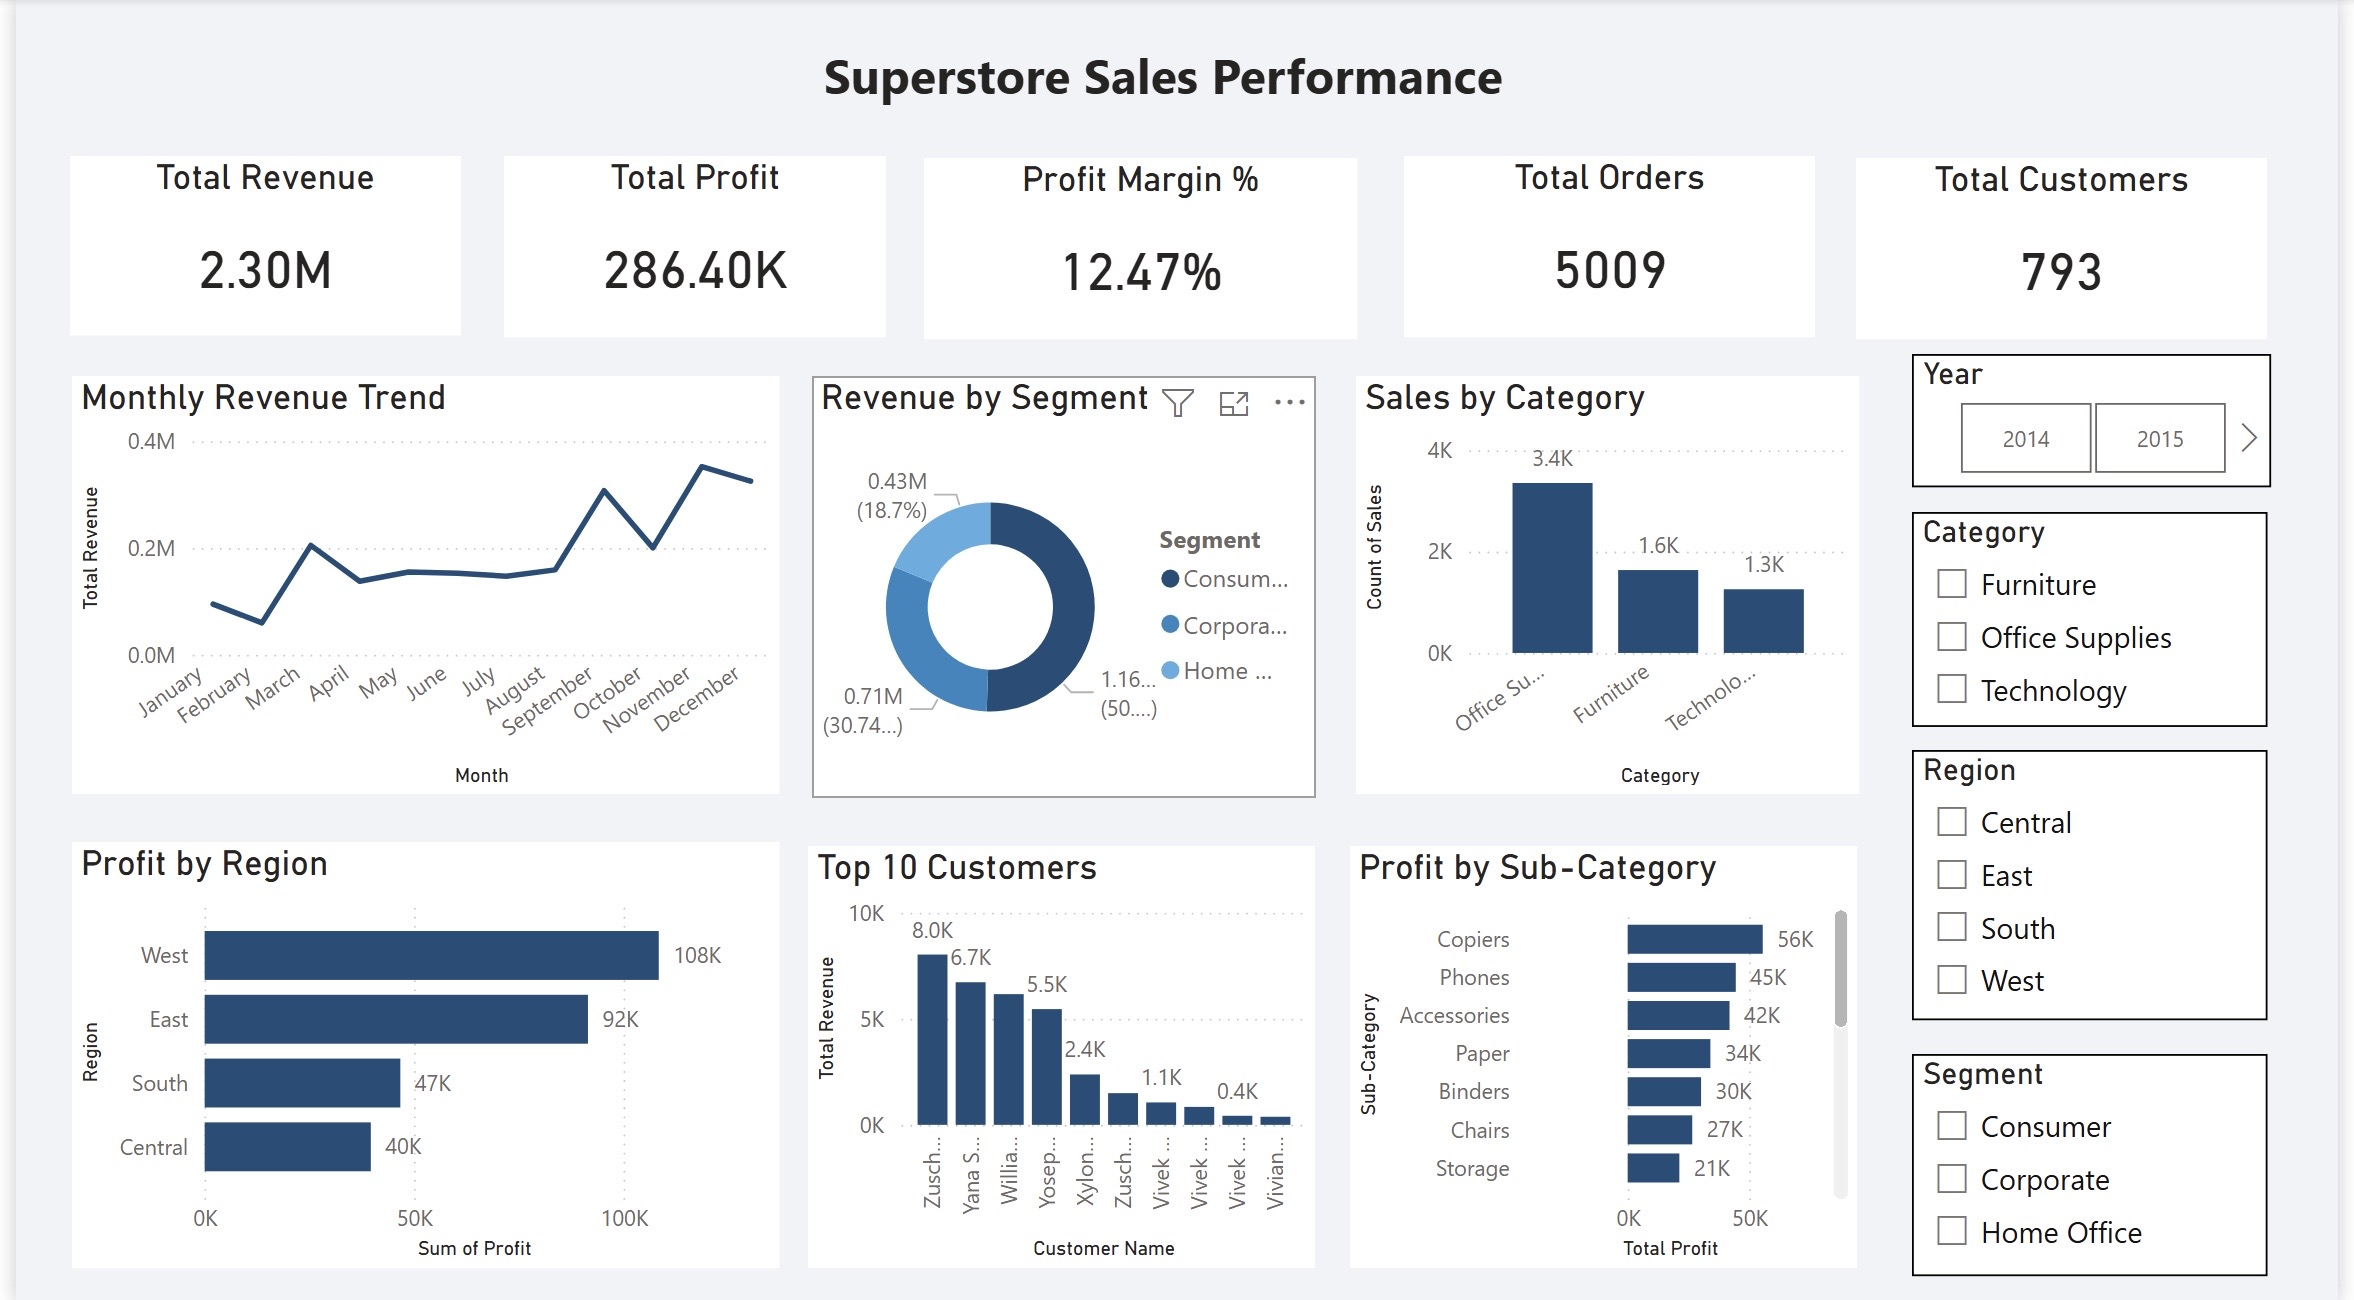

What the dashboard file says about the page in this screenshot:
{"tool":"powerbi","page":{"name":"Page 1","canvas":[1280,720],"ordinal":0},"visuals":[{"type":"card","title":"Total Revenue","fields":{"Values":["Superstore.Total Revenue"]},"box":[30.1,87.1,215.4,99],"z":0},{"type":"card","title":"Total Profit","fields":{"Values":["Superstore.Total Profit"]},"box":[269.3,87.1,210.7,99.8],"z":1000},{"type":"card","title":"Total Orders","fields":{"Values":["Superstore.Total Orders"]},"box":[765.1,87.1,226.5,99.8],"z":2000},{"type":"card","title":"Total Customers","fields":{"Values":["Superstore.Total Customers"]},"box":[1014.6,87.8,226.6,100],"z":3000},{"type":"card","title":"Profit Margin %","fields":{"Values":["Superstore.Profit Margin %"]},"box":[500.2,87.8,238.9,100],"z":4000},{"type":"lineChart","title":"Monthly Revenue Trend","fields":{"Category":["Superstore.Month"],"Y":["Superstore.Total Revenue"]},"box":[30.6,208.2,389.9,230.7],"z":5000},{"type":"columnChart","title":"Top 10 Customers","fields":{"Category":["Superstore.Customer Name"],"Y":["Superstore.Total Revenue"]},"box":[436.9,467.5,279.7,232.7],"z":7000},{"type":"donutChart","title":"Revenue by Segment","fields":{"Category":["Superstore.Segment"],"Y":["Superstore.Total Revenue"]},"box":[438.9,208.2,277.6,232.7],"z":8000},{"type":"barChart","title":"Profit by Sub-Category","fields":{"Category":["Superstore.Sub-Category"],"Y":["Superstore.Total Profit"]},"box":[734.9,467.5,279.7,232.7],"z":8001},{"type":"columnChart","title":"Sales by Category","fields":{"Category":["Superstore.Category"],"Y":["Count(Superstore.Sales)"]},"box":[739,208.2,277.6,230.7],"z":8002},{"type":"slicer","title":"Region","fields":{"Values":["Superstore.Region"]},"box":[1045.2,414.4,196,149],"z":8004},{"type":"slicer","title":"Segment","fields":{"Values":["Superstore.Segment"]},"box":[1045.2,581.8,196,122.5],"z":8005},{"type":"slicer","title":"Category","fields":{"Values":["Superstore.Category"]},"box":[1045.2,283.8,196,118.4],"z":8006},{"type":"barChart","title":"Profit by Region","fields":{"Category":["Superstore.Region"],"Y":["Sum(Superstore.Profit)"]},"box":[30.6,465.5,389.9,234.8],"z":8007},{"type":"slicer","title":"Year","fields":{"Values":["Superstore.Year"]},"box":[1045.2,196,198,73.5],"z":8008},{"type":"textbox","box":[30.6,18.4,1210.6,51],"z":8009}]}

Visuals, with their boxes in screenshot pixels (x1, y1, x2, y2), scaled from the page's 1280x720 canvas onto the 2354x1300 screenshot:
"Total Revenue" card: (x1=55, y1=157, x2=451, y2=336)
"Total Profit" card: (x1=495, y1=157, x2=883, y2=337)
"Total Orders" card: (x1=1407, y1=157, x2=1824, y2=337)
"Total Customers" card: (x1=1866, y1=159, x2=2283, y2=339)
"Profit Margin %" card: (x1=920, y1=159, x2=1359, y2=339)
"Monthly Revenue Trend" lineChart: (x1=56, y1=376, x2=773, y2=792)
"Top 10 Customers" columnChart: (x1=803, y1=844, x2=1318, y2=1264)
"Revenue by Segment" donutChart: (x1=807, y1=376, x2=1318, y2=796)
"Profit by Sub-Category" barChart: (x1=1352, y1=844, x2=1866, y2=1264)
"Sales by Category" columnChart: (x1=1359, y1=376, x2=1870, y2=792)
"Region" slicer: (x1=1922, y1=748, x2=2283, y2=1017)
"Segment" slicer: (x1=1922, y1=1050, x2=2283, y2=1272)
"Category" slicer: (x1=1922, y1=512, x2=2283, y2=726)
"Profit by Region" barChart: (x1=56, y1=840, x2=773, y2=1264)
"Year" slicer: (x1=1922, y1=354, x2=2286, y2=487)
textbox: (x1=56, y1=33, x2=2283, y2=125)
